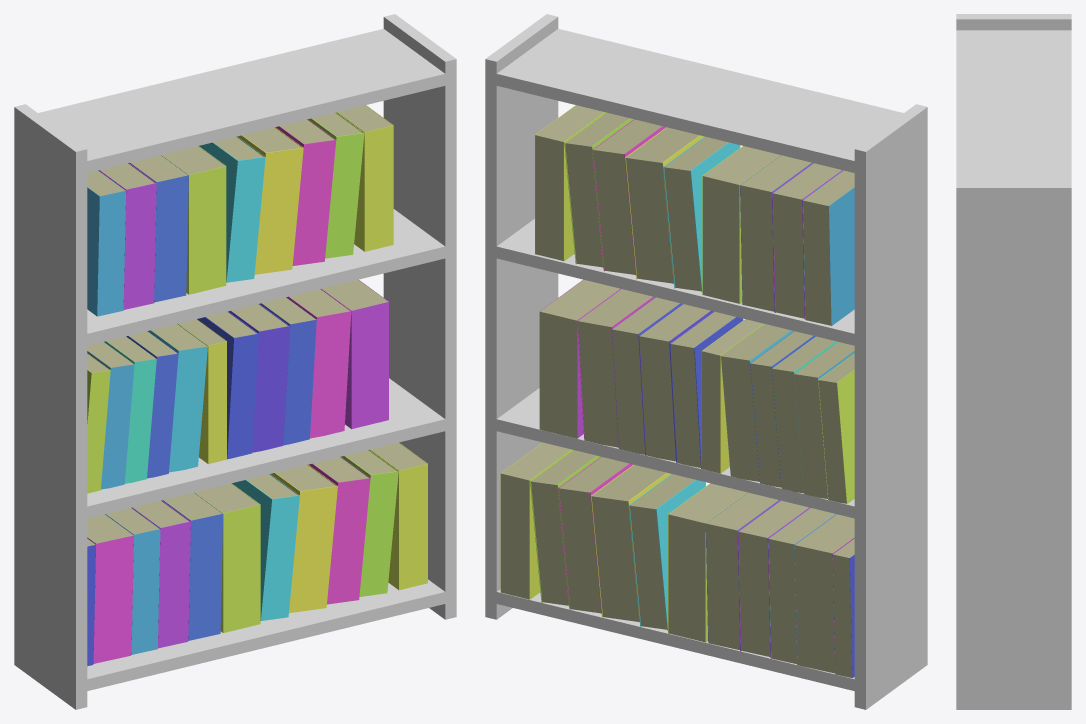
The model's file is bookself.fbx.
3 renders of one model, left to right at view 1: azimuth 30°, elevation 25°; view 2: azimuth 150°, elevation 25°; view 3: azimuth 270°, elevation 25°, orthographic. The views are drawn at different scales.
Parts seen in each view (by area): view 1: Shelves1, Book10.001, Book5, Book5.002, Book7, Book7.002, Book1, Book9.001, Book6, Book2.002, Book6.002, Book10 (+20 smaller); view 2: Shelves1, Book2.002, Book10.001, Book5, Book5.002, Book7, Book7.002, Book1, Book9.001, Book6.002, Book6, Book10 (+20 smaller); view 3: Shelves1.
Boxes of the visible parts, x1,y1,x2,y2 form: Shelves1: [14, 14, 456, 709]; Book10.001: [321, 279, 388, 429]; Book5: [194, 483, 260, 632]; Book5.002: [161, 146, 226, 294]; Book7: [271, 464, 337, 613]; Book7.002: [237, 127, 303, 274]; Book1: [87, 514, 133, 663]; Book9.001: [286, 289, 351, 438]; Book6: [232, 474, 299, 620]; Book2.002: [87, 170, 125, 316]; Book6.002: [199, 136, 265, 282]; Book10: [369, 442, 427, 590]; Shelves1: [485, 14, 927, 709]; Book2.002: [802, 170, 854, 325]; Book10.001: [539, 279, 620, 438]; Book5: [668, 483, 747, 642]; Book5.002: [702, 146, 780, 304]; Book7: [591, 464, 670, 622]; Book7.002: [625, 127, 704, 283]; Book1: [794, 514, 854, 673]; Book9.001: [577, 289, 655, 447]; Book6.002: [663, 136, 740, 291]; Book6: [629, 474, 705, 630]; Book10: [500, 442, 572, 599]; Shelves1: [956, 14, 1071, 709].
Bounding box in the file's own units: 100 × 140 × 28.
